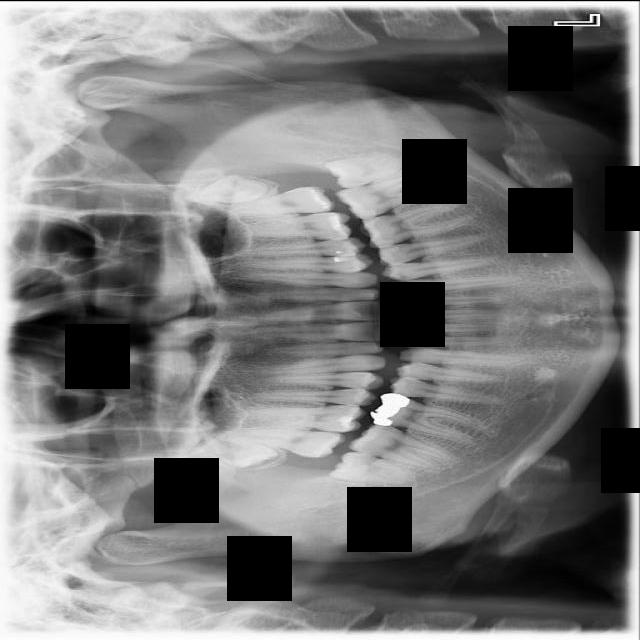3M ESPE Implant: (197, 425, 281, 479)
52: (366, 384, 416, 436), (317, 235, 366, 257), (326, 251, 372, 273)
73: (573, 40, 587, 46)
BioHorizons Implant: (232, 184, 335, 215)
BioLife Implant: (191, 171, 270, 205)
Biomet 3i Implant: (323, 148, 405, 192)
Blue Sky Bio Implant: (334, 167, 444, 225)
Caries: (236, 425, 346, 459)
Implant: (347, 416, 457, 474)
Keystone Dental Implant: (328, 448, 415, 486)
